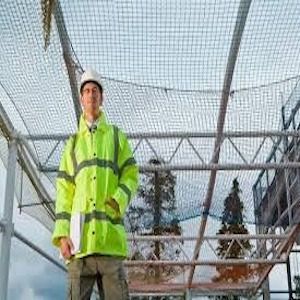safety: (79, 69, 104, 91)
vest: (57, 115, 137, 255)
